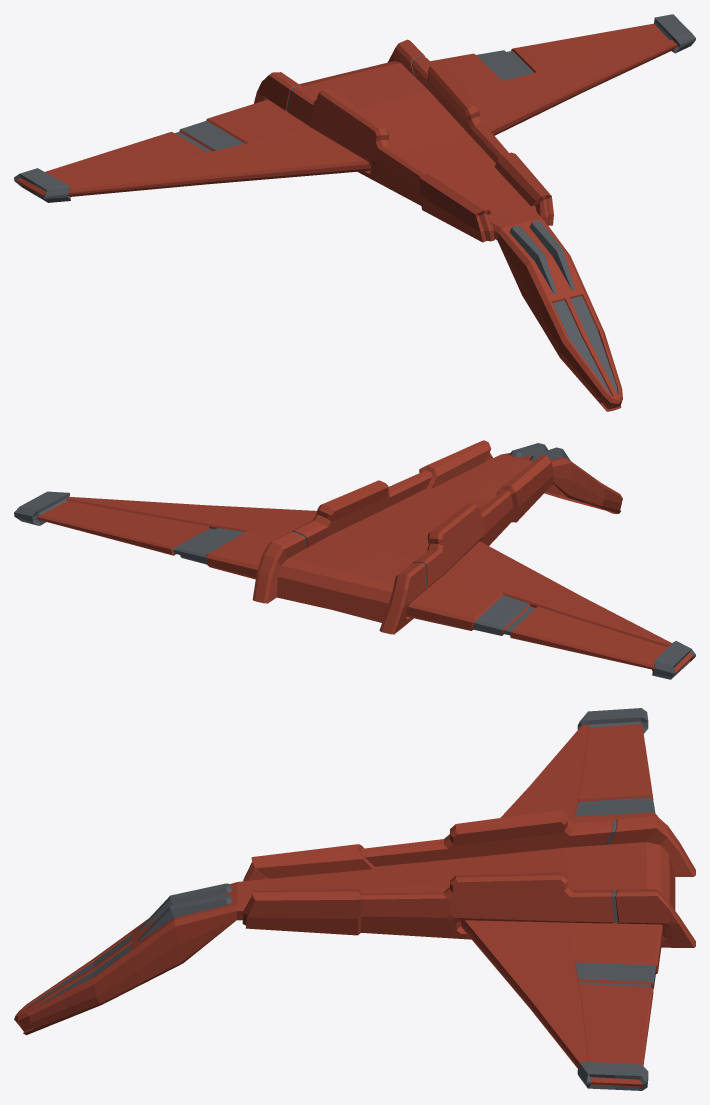
Rendered from Fighter_04_Full_Wing_Red.fbx.
The picture shows the model from 3 angles, top to bottom: view 1: azimuth 30°, elevation 25°; view 2: azimuth 150°, elevation 25°; view 3: azimuth 270°, elevation 25°; orthographic projection. The views are drawn at different scales.
Visible parts, largest first — view 1: Fighter_04_Full_Wing_Red; view 2: Fighter_04_Full_Wing_Red; view 3: Fighter_04_Full_Wing_Red.
Boxes of the visible parts, <box> form: Fighter_04_Full_Wing_Red: <box>14,14,695,411</box>; Fighter_04_Full_Wing_Red: <box>14,440,695,679</box>; Fighter_04_Full_Wing_Red: <box>14,708,695,1090</box>.
Size of the model in its own units: 1945 by 465 by 1509.
Materials: 1 (1 with a texture image).
